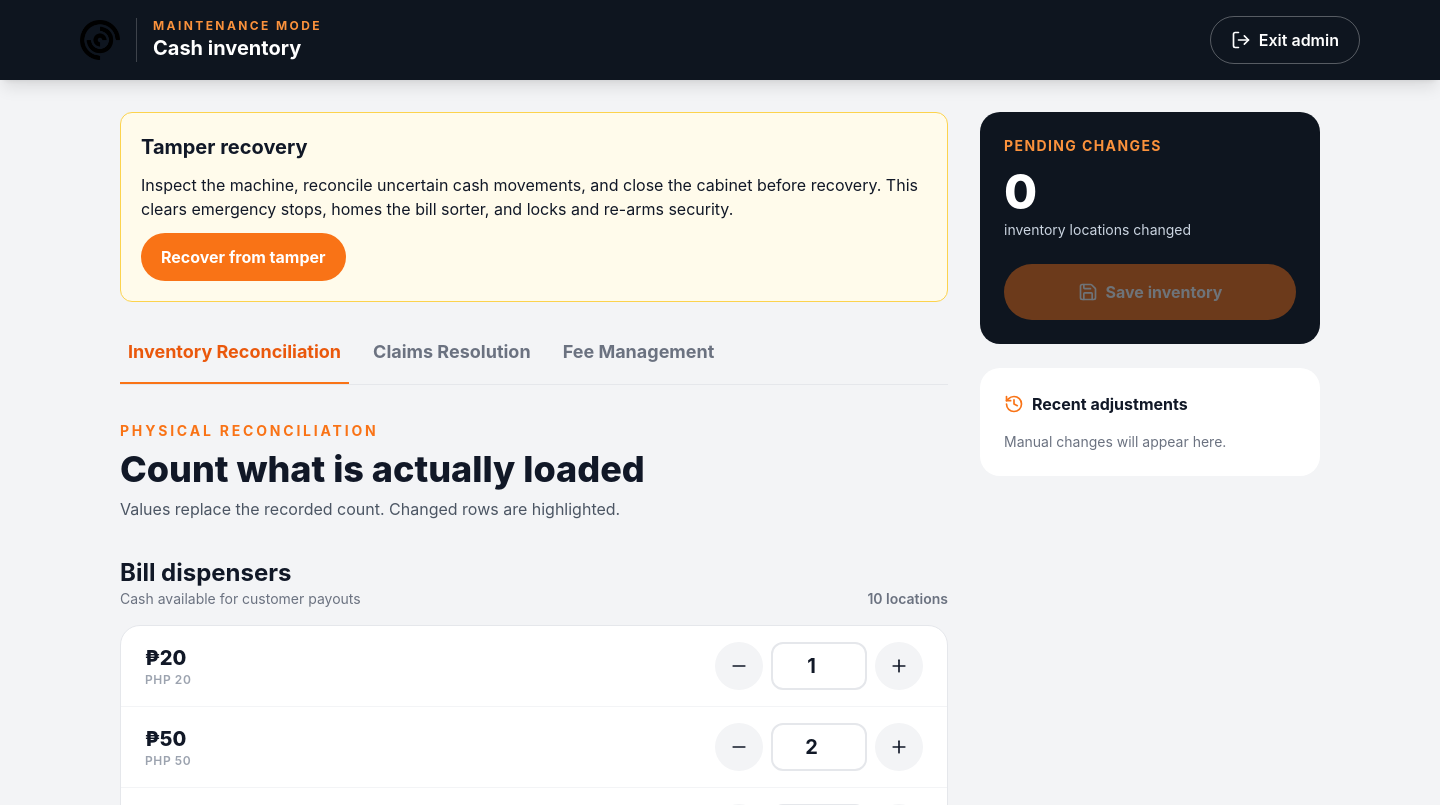
Test: reconciles converter uncertain bill intake to /admin/converter-reconciliation/bills/:id
Click the button "Claims Resolution": (452, 361) [365, 338, 539, 384]
(page scrolled)
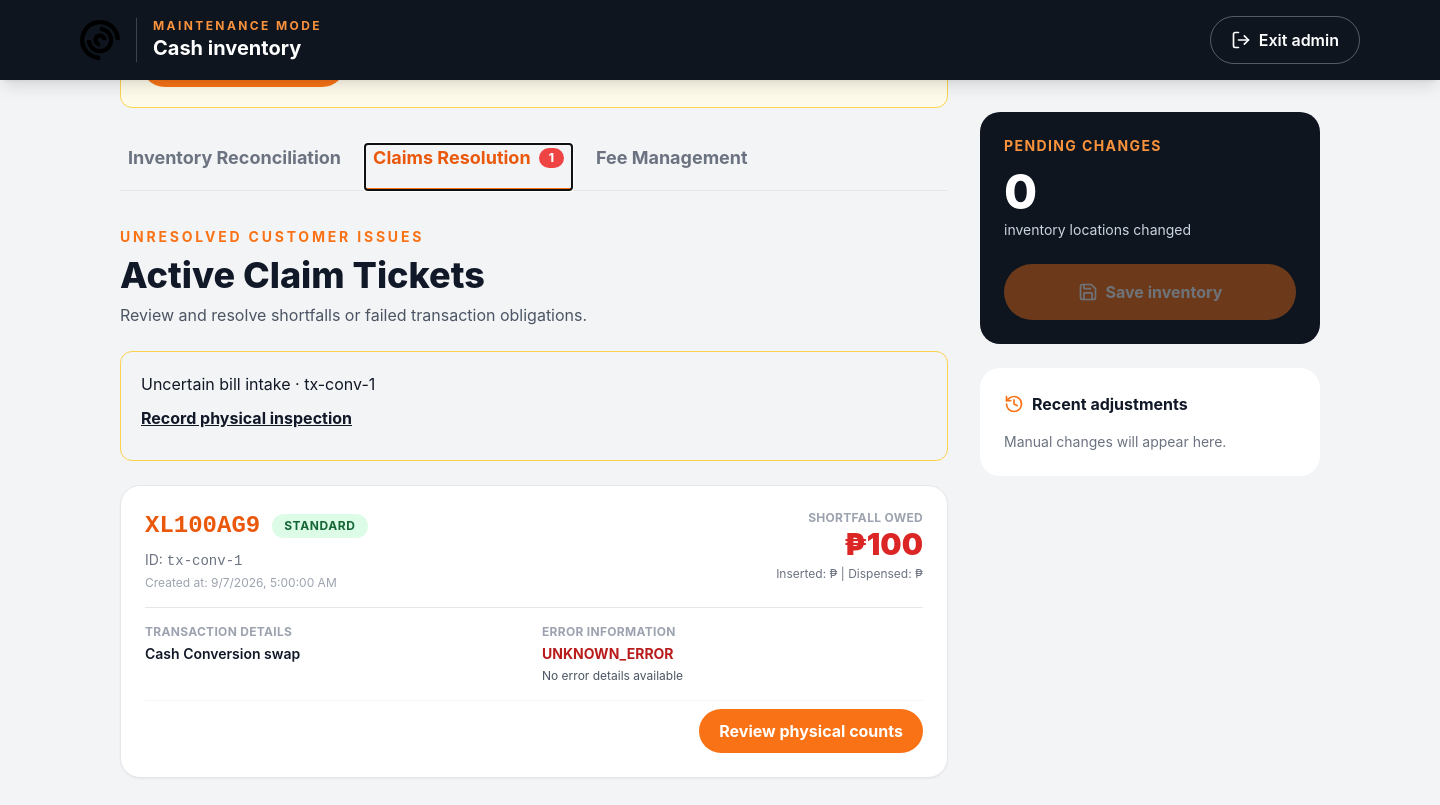
Click the button "Review physical counts": (811, 731) [699, 709, 923, 753]
(page scrolled)
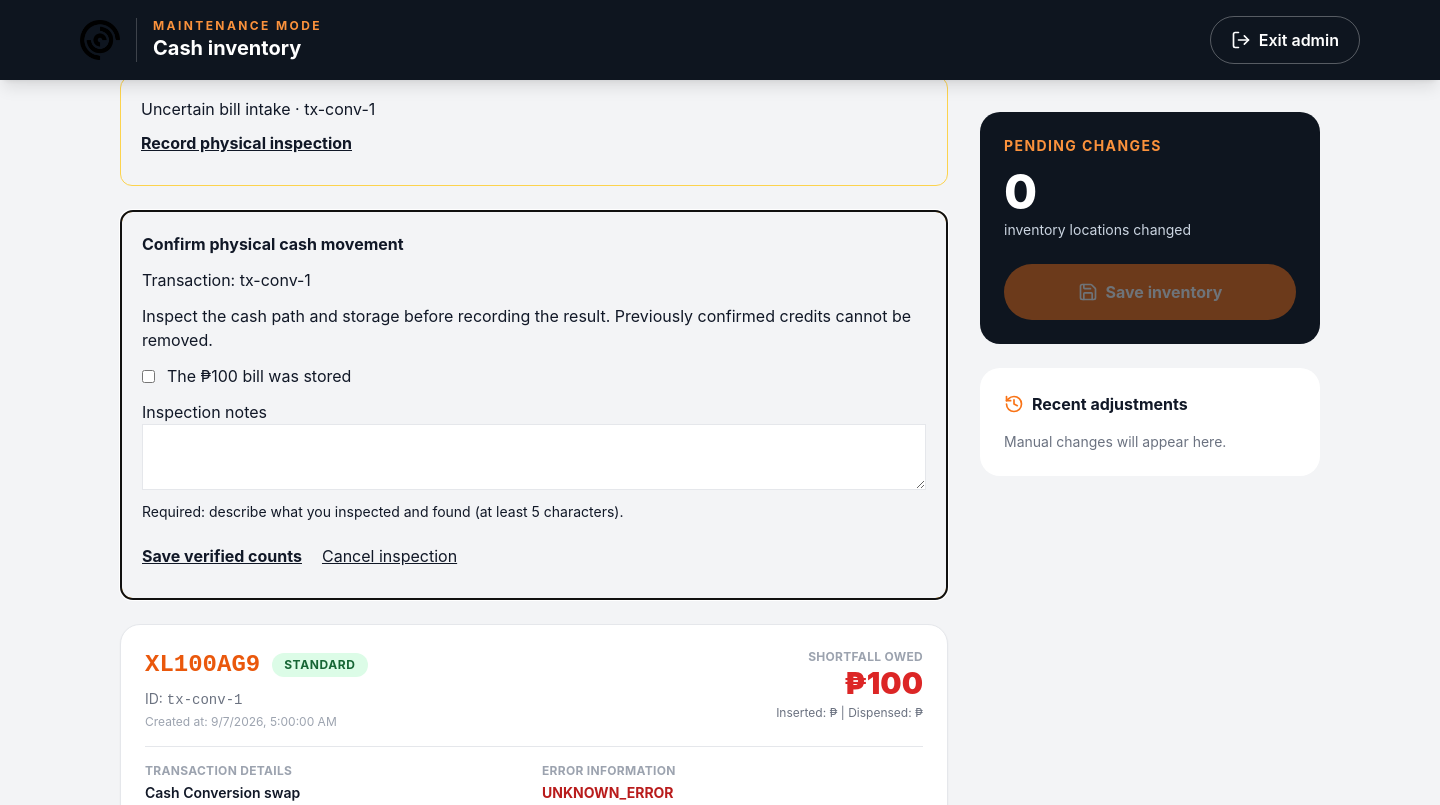
Check: the heading "Confirm physical cash movement" is shown, box [142, 234, 404, 254]
Check: the text "The ₱100 bill was stored" is shown, box [142, 366, 351, 386]
Click the checkbox: (148, 376) [142, 370, 155, 382]
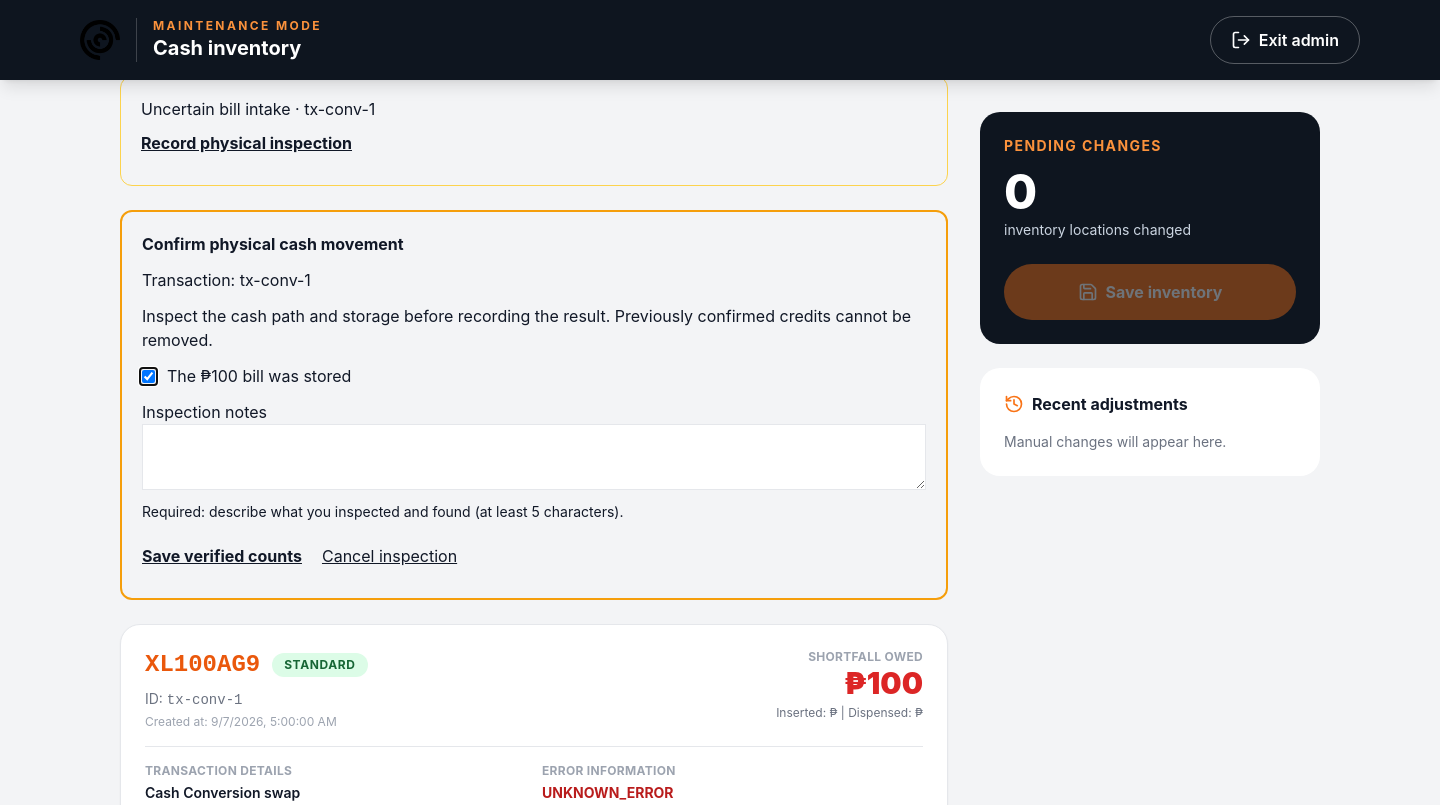
In the text box labelled "Inspection notes": (534, 457) [142, 424, 926, 490], type "Technician verified bill in box"
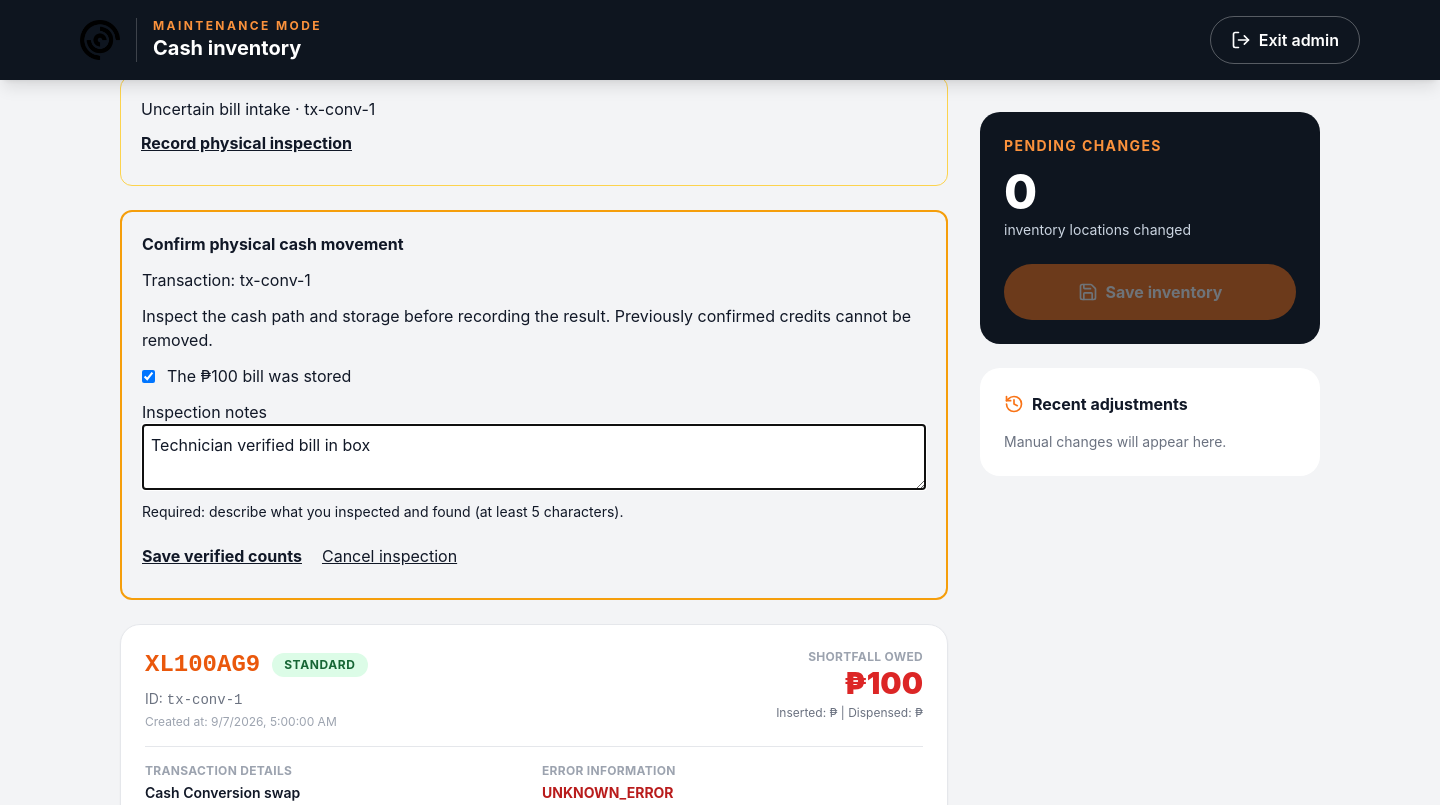
Click the button "Save verified counts": (222, 556) [142, 534, 302, 578]
(page scrolled)
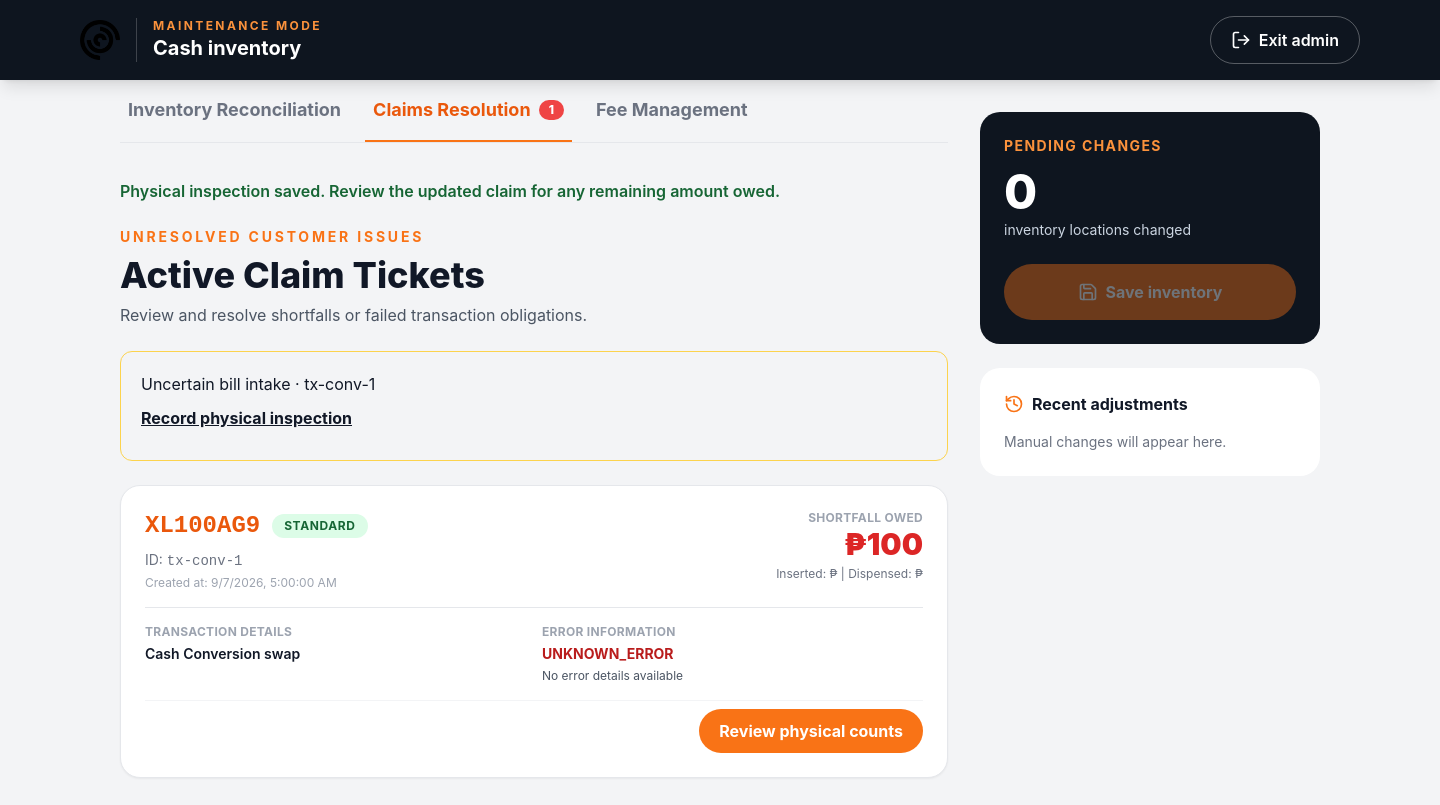
Check: the message shows "Physical inspection saved", box [120, 181, 780, 201]
